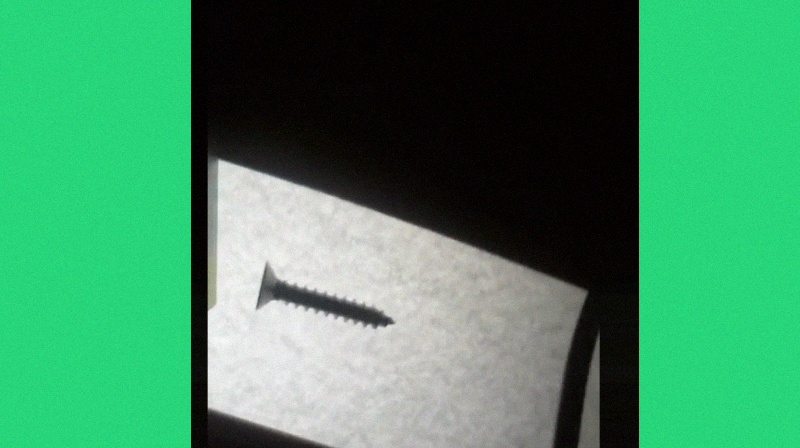S001: (251, 257, 397, 331)
